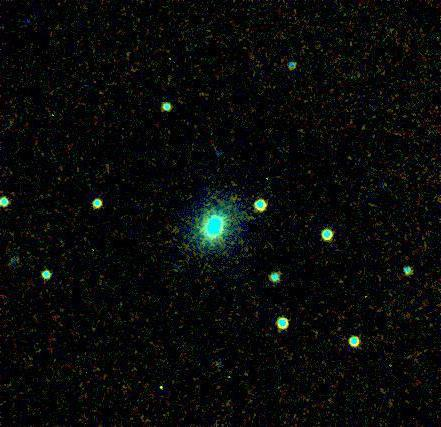star: (144, 371, 174, 401)
